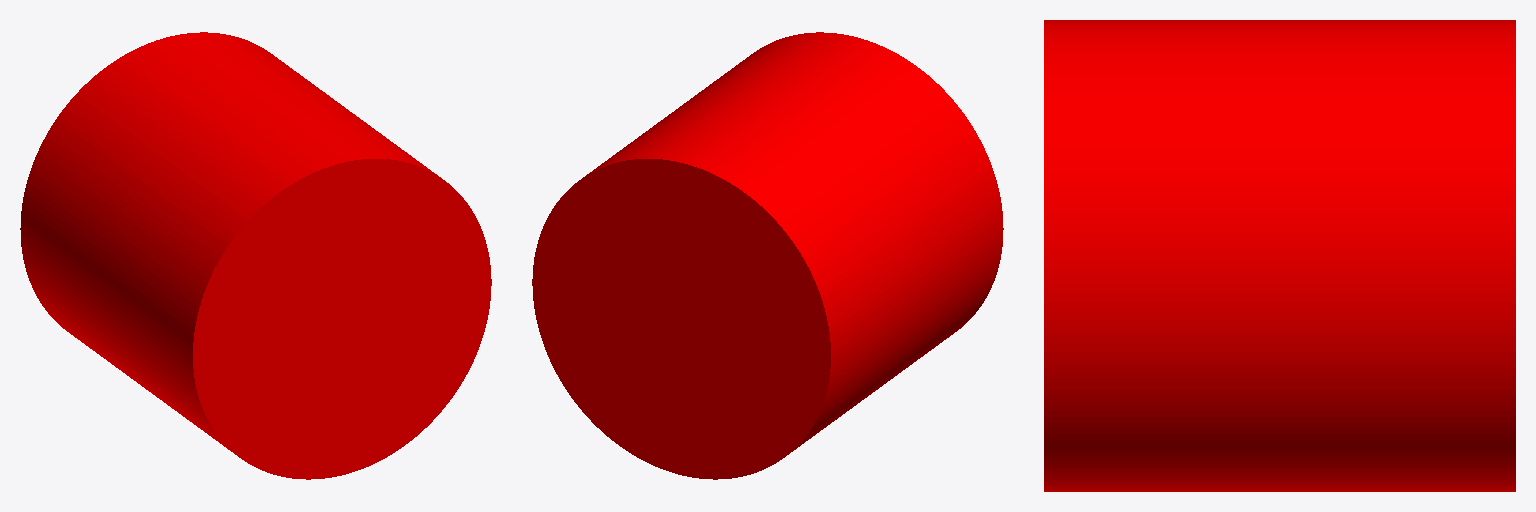
robot.urdf — my_simple_model:
<?xml version="1.0"?>
<robot name="my_simple_model">

  <link name="link1">
    <visual>
      <geometry>
        <mesh filename="package://my_urdf_test_pkg/meshes/test_re.stl" />
      </geometry>
        <origin xyz="0 0 0" rpy="0 0 0"/>
      <material name="red">
        <color rgba="1.0 0.0 0.0 2.0"/>
      </material>
    </visual>
  </link>

</robot>

--- Render facts (derived) ---
The picture shows the robot from 3 angles, left to right: view 1: azimuth 30°, elevation 25°; view 2: azimuth 150°, elevation 25°; view 3: azimuth 270°, elevation 25°; orthographic projection.
Model my_simple_model with 1 links and 0 joints (none), rooted at link1, posed every joint at zero.
Visible links, largest first — view 1: link1; view 2: link1; view 3: link1.
Boxes of the visible links, left/top/right/bottom form: link1: left=20, top=32, right=491, bottom=479; link1: left=532, top=32, right=1003, bottom=479; link1: left=1044, top=20, right=1515, bottom=491.
Bounding box of the posed robot: 0.1 × 0.1 × 0.1 m (x, y, z).
1 mesh visuals loaded from 1 distinct referenced files (1 binary STL).